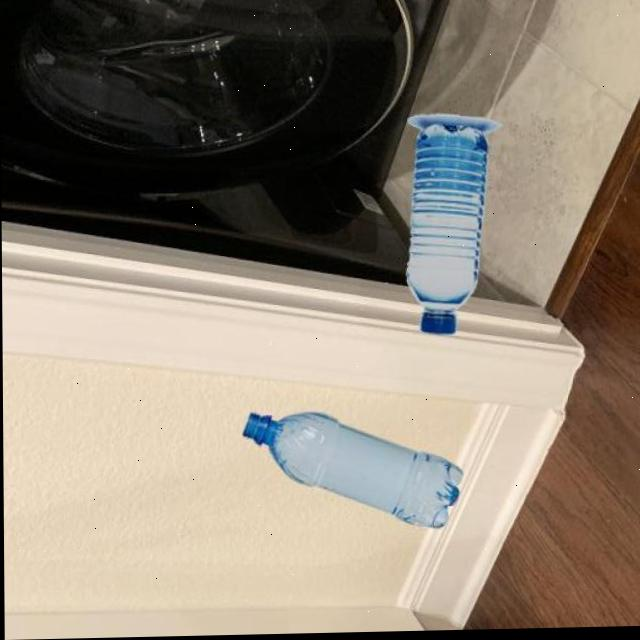bottle: (240, 408, 464, 535), (402, 114, 502, 339)
